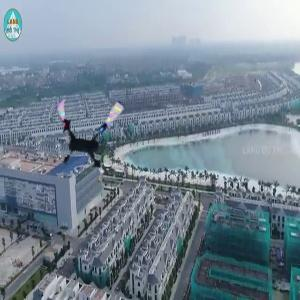drone: (43, 88, 133, 178)
